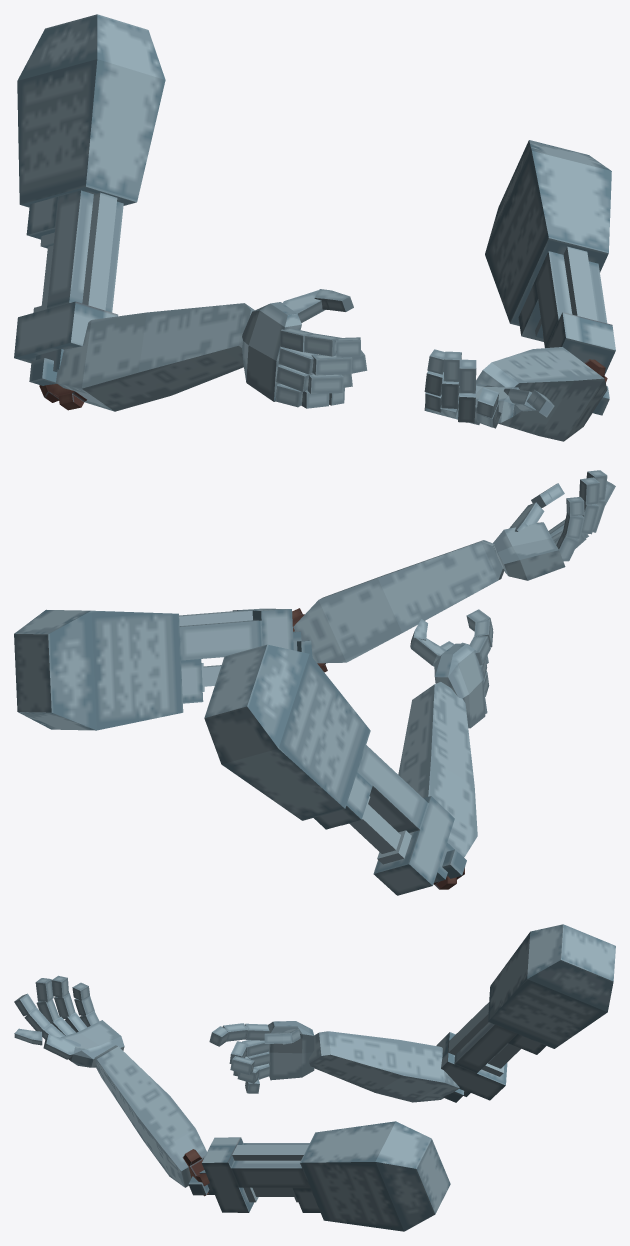
Rendered from arm.fbx.
The picture shows the model from 3 angles, top to bottom: view 1: azimuth 30°, elevation 25°; view 2: azimuth 150°, elevation 25°; view 3: azimuth 270°, elevation 25°; orthographic projection. The views are drawn at different scales.
Parts seen in each view (by area): view 1: cube.004, cube.001, cylinder, cylinder.001, cube.011, cube.002, cube.017, cube.012, cube.019, cube.021, cube.014, cube.013 (+2 smaller); view 2: cube.004, cube.001, cylinder.001, cylinder, cube.002, cube.011; view 3: cube.001, cube.004, cylinder, cylinder.001, cube.011, cube.002, cube.003.
Boxes of the visible parts, bbox=[...] form: cube.004: bbox=[14, 14, 165, 385]; cube.001: bbox=[485, 140, 615, 415]; cylinder: bbox=[39, 303, 254, 411]; cylinder.001: bbox=[476, 347, 607, 441]; cube.011: bbox=[242, 302, 301, 401]; cube.002: bbox=[424, 384, 521, 422]; cube.017: bbox=[311, 354, 352, 375]; cube.012: bbox=[283, 290, 325, 322]; cube.019: bbox=[278, 347, 317, 374]; cube.021: bbox=[307, 374, 343, 393]; cube.014: bbox=[304, 333, 341, 356]; cube.013: bbox=[314, 289, 353, 311]; cube.004: bbox=[204, 644, 466, 895]; cube.001: bbox=[14, 608, 312, 730]; cylinder.001: bbox=[292, 540, 504, 672]; cylinder: bbox=[398, 682, 477, 889]; cube.002: bbox=[493, 522, 565, 580]; cube.011: bbox=[434, 643, 485, 728]; cube.001: bbox=[188, 1121, 450, 1231]; cube.004: bbox=[436, 924, 615, 1102]; cylinder: bbox=[309, 1031, 459, 1102]; cylinder.001: bbox=[94, 1045, 209, 1196]; cube.011: bbox=[268, 1021, 314, 1080]; cube.002: bbox=[60, 1020, 124, 1067]; cube.003: bbox=[43, 1035, 80, 1059].
Size of the model in its own units: 61.52 by 33.49 by 86.03.
